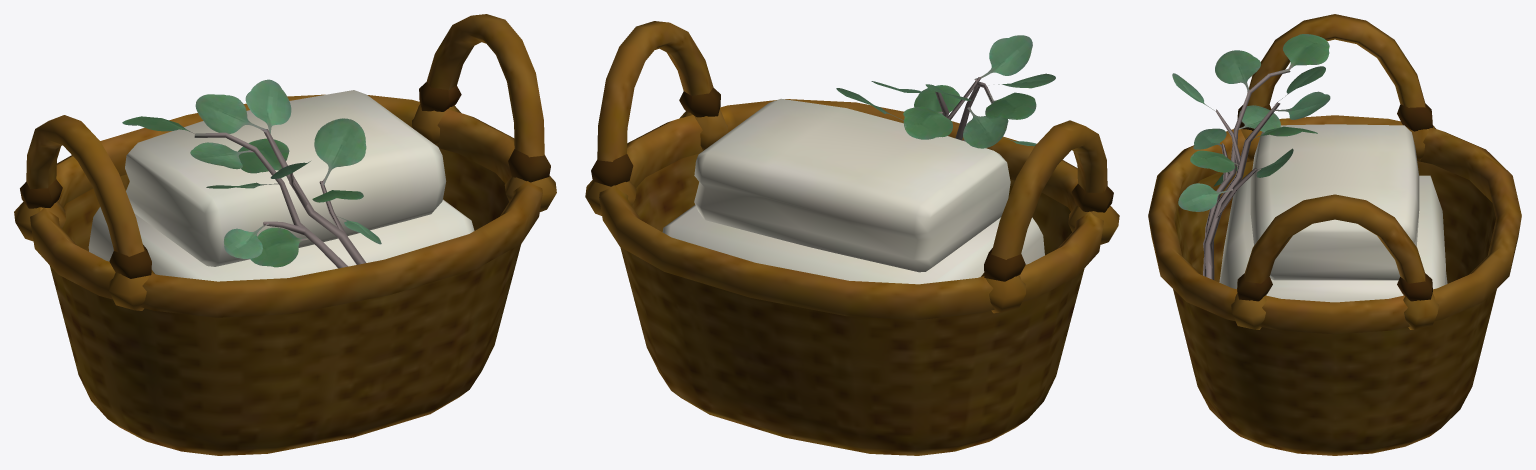
3 renders of one model, left to right at view 1: azimuth 30°, elevation 25°; view 2: azimuth 150°, elevation 25°; view 3: azimuth 270°, elevation 25°, orthographic. The views are drawn at different scales.
Bounding box in the file's own units: 6.91 × 4.67 × 5.51.
Materials: 2 (2 with a texture image).
